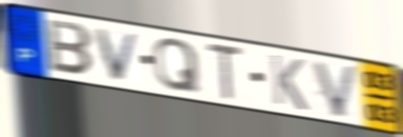B: (45, 17, 95, 78)
K: (268, 51, 310, 113)
Q: (153, 36, 203, 95)
T: (205, 40, 245, 102)
V: (309, 58, 361, 120), (93, 26, 143, 84)
